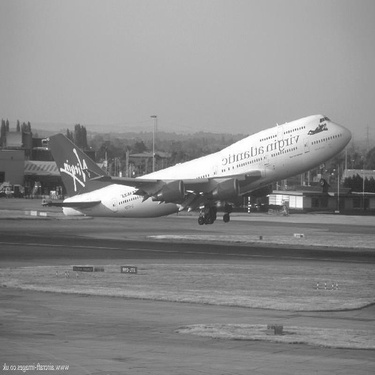airplane: (26, 115, 358, 223)
